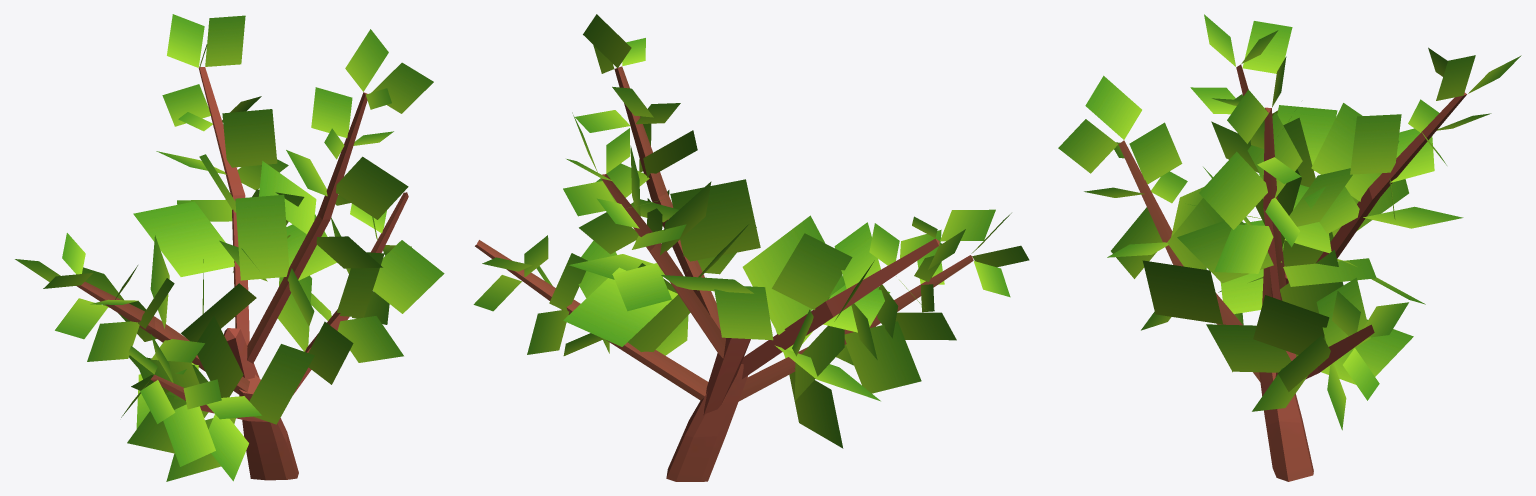
3 views of the same model, side by side, from view 1: azimuth 30°, elevation 25°; view 2: azimuth 150°, elevation 25°; view 3: azimuth 270°, elevation 25° (orthographic). The views are drawn at different scales.
Parts seen in each view (by area): view 1: Bush; view 2: Bush; view 3: Bush.
Boxes of the visible parts, x1,y1,x2,y2 form: Bush: (15, 14, 444, 481); Bush: (473, 14, 1029, 481); Bush: (1058, 14, 1521, 481).
Bounding box in the file's own units: 267 × 250 × 227.
1 material, 1 textured.
